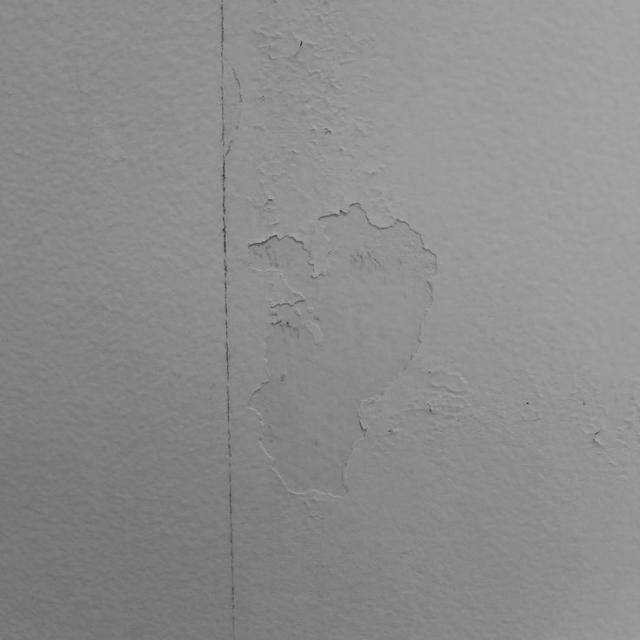peeling paint: (177, 115, 551, 572)
